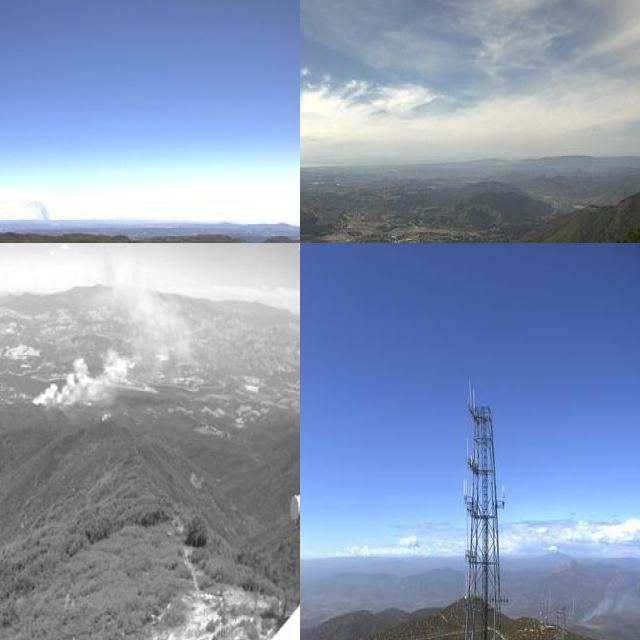smoke: (26, 243, 200, 419), (573, 571, 640, 624), (22, 197, 52, 227)
